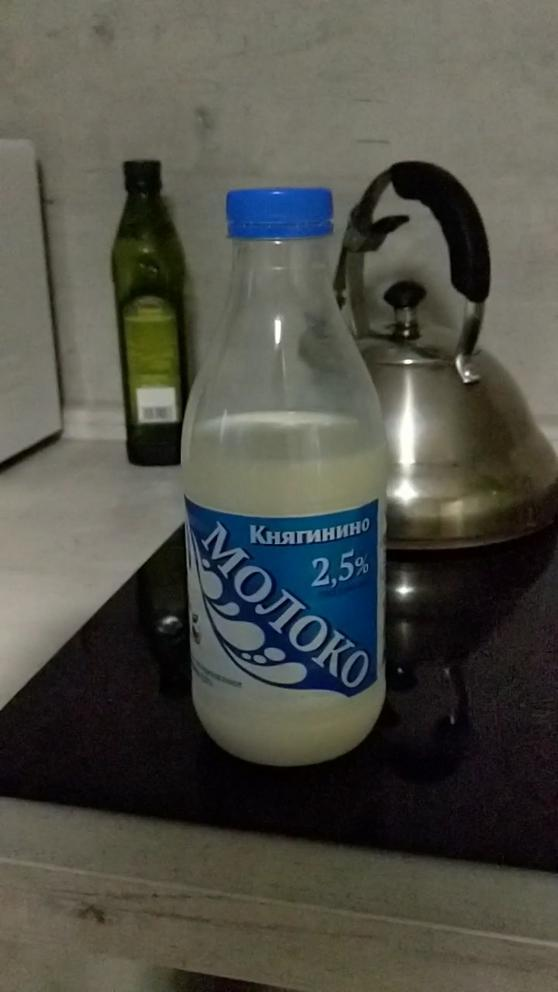milk: (160, 175, 409, 783)
